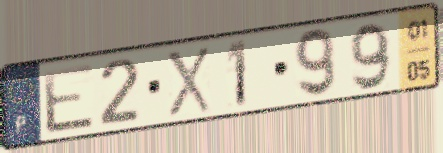1: (225, 36, 248, 112)
2: (97, 56, 144, 130)
9: (291, 26, 339, 100), (347, 19, 394, 92)
E: (40, 60, 98, 137)
X: (163, 44, 214, 120)
